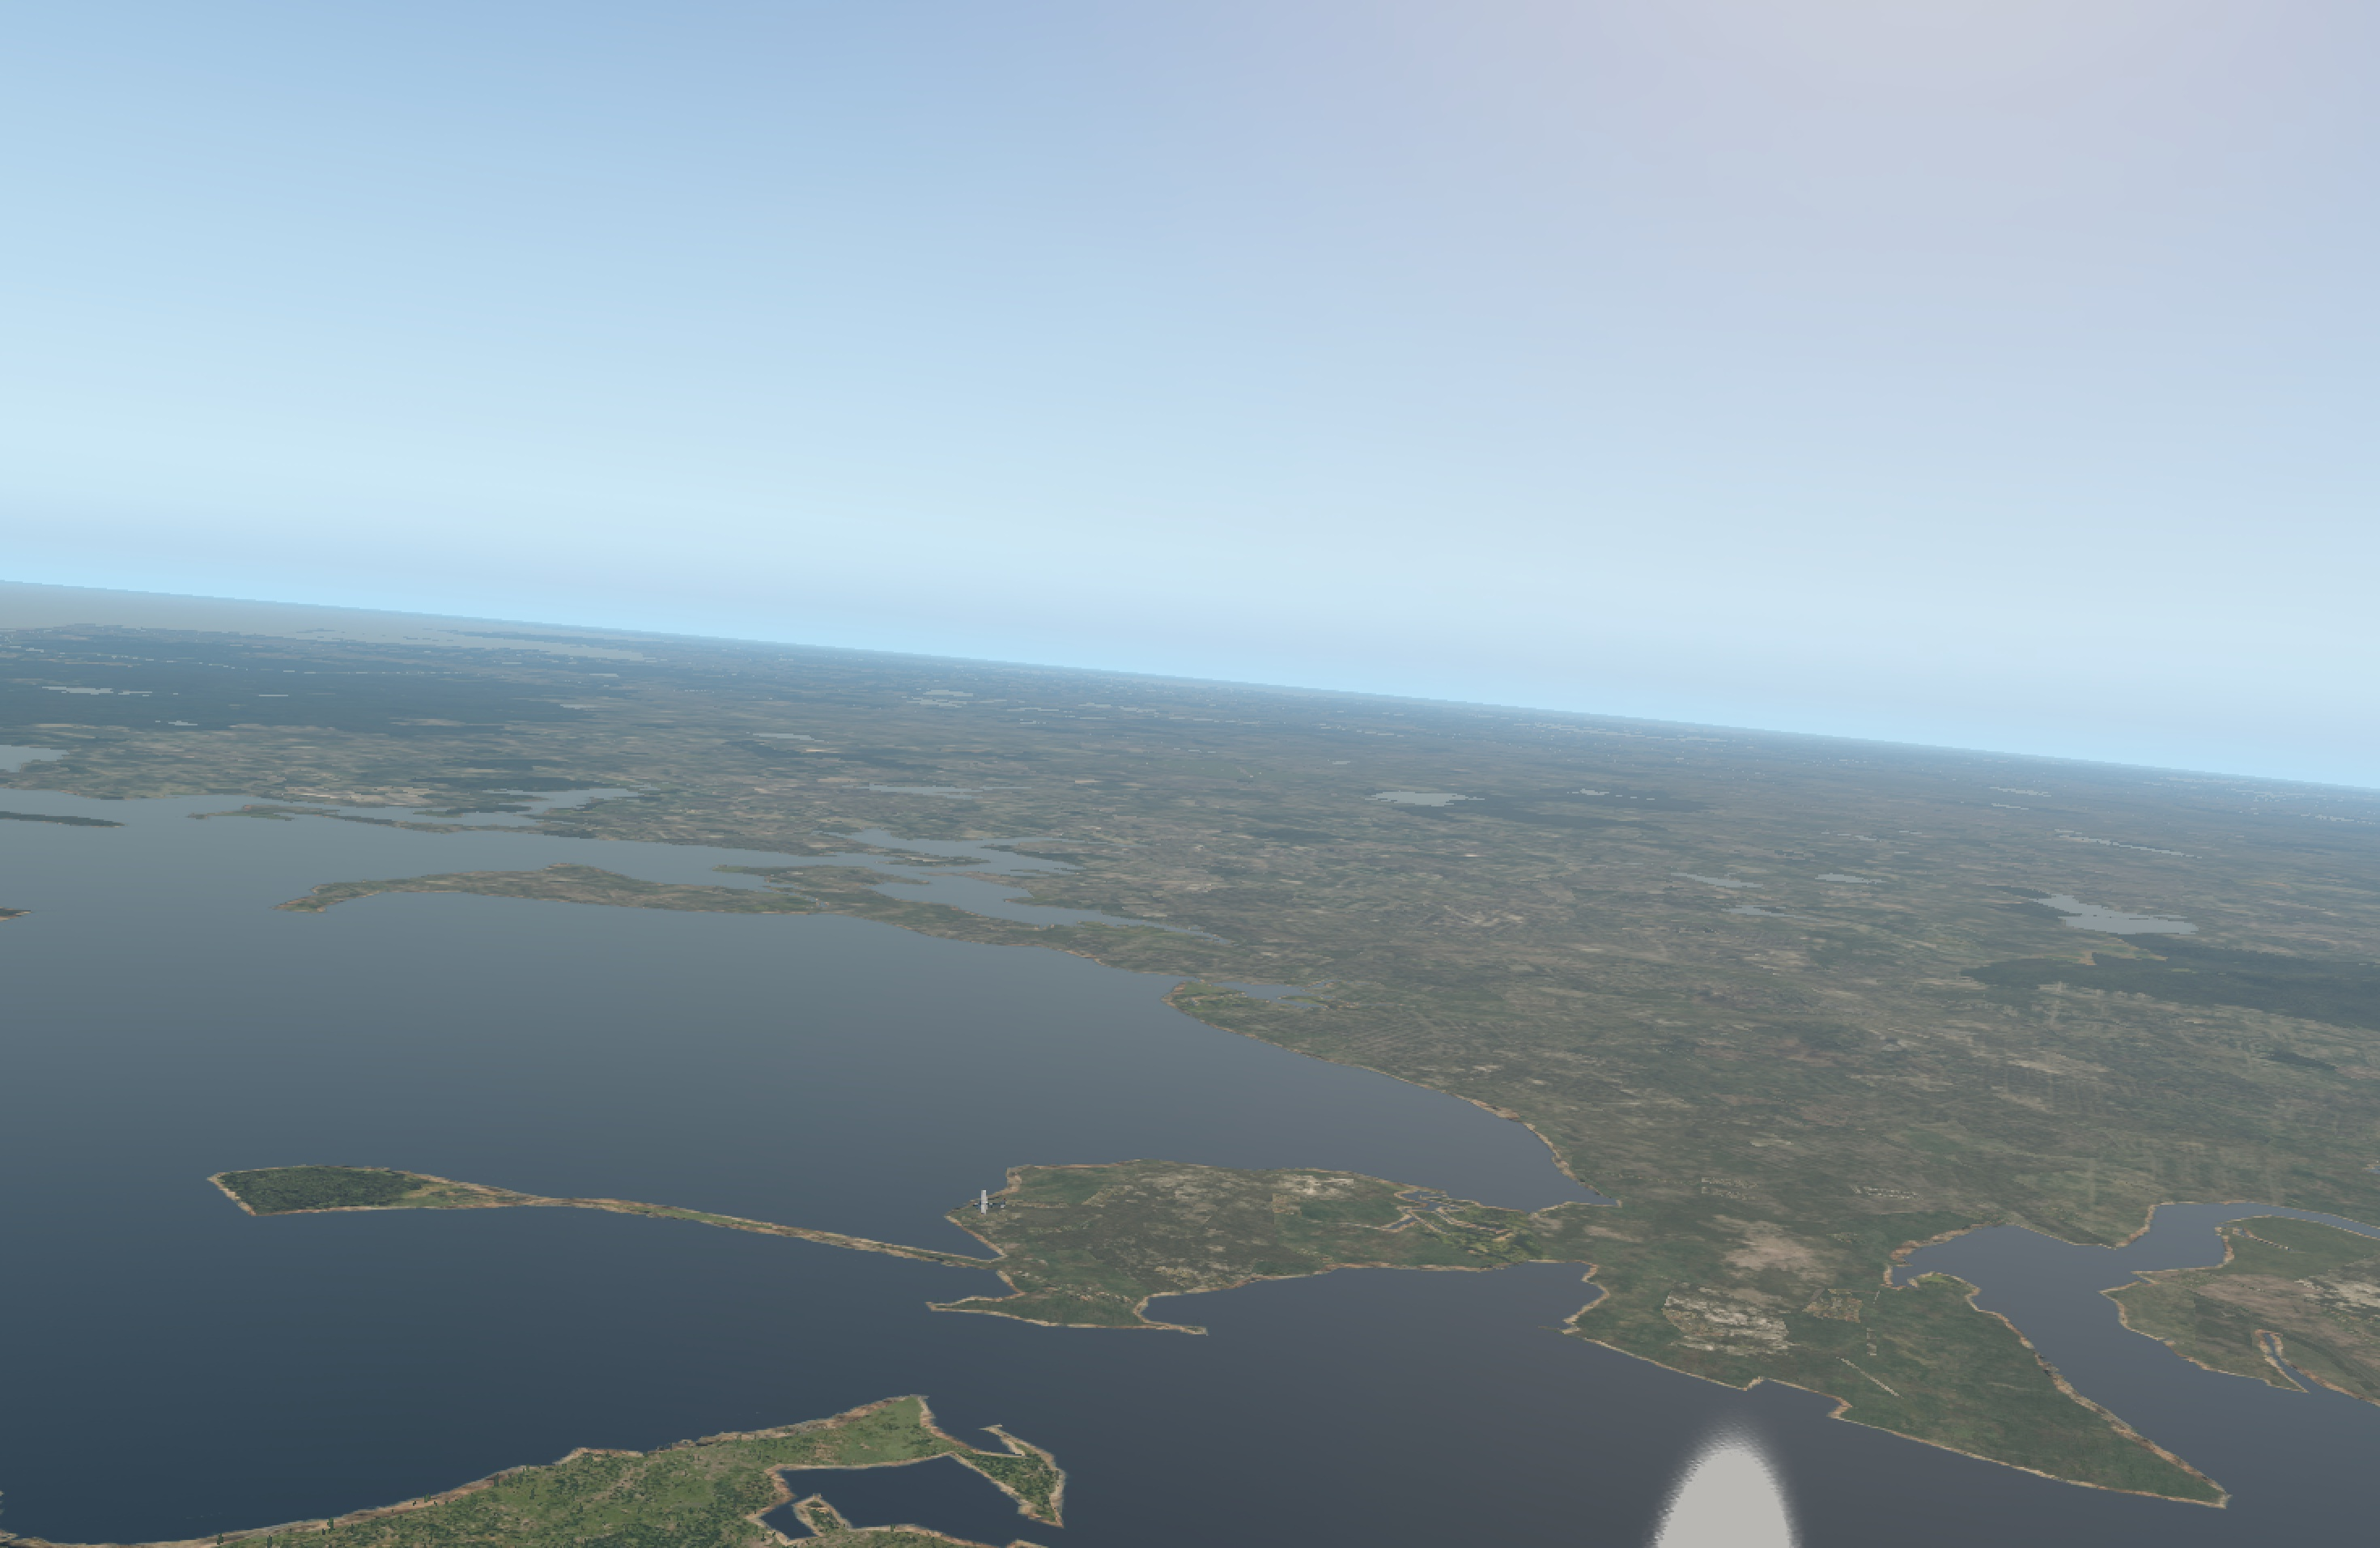aircraft: (966, 1199, 999, 1211)
